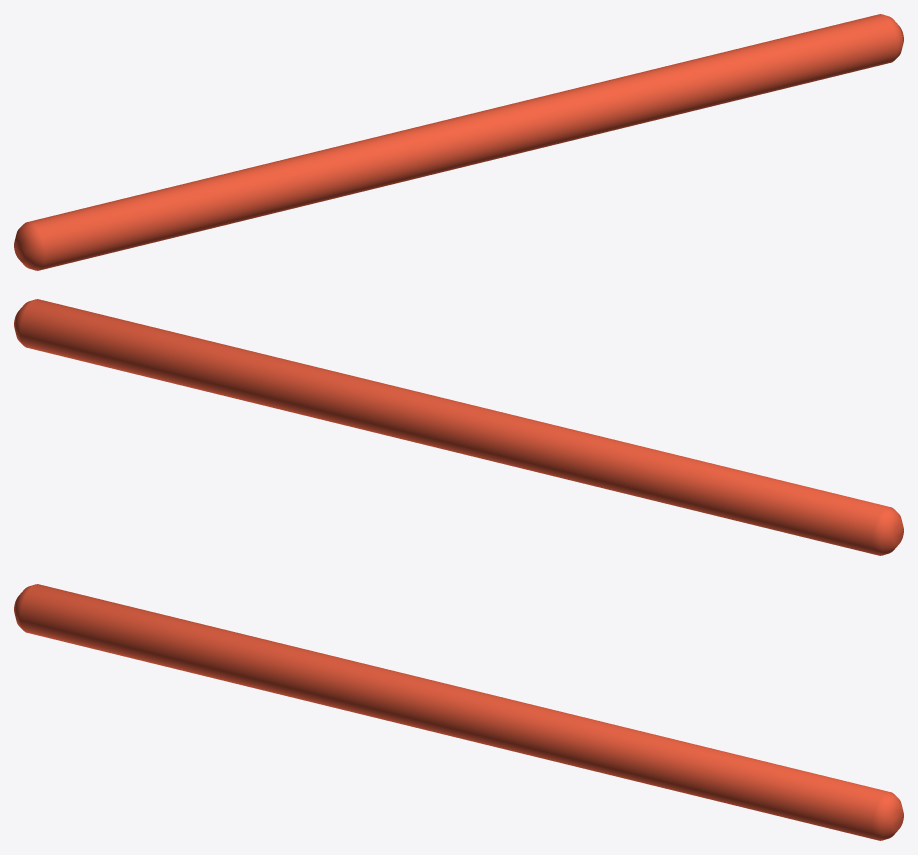
File: Laser.fbx
3 renders of one model, top to bottom at view 1: azimuth 30°, elevation 25°; view 2: azimuth 150°, elevation 25°; view 3: azimuth 330°, elevation 25°, orthographic.
Parts seen in each view (by area): view 1: Laser Beam; view 2: Laser Beam; view 3: Laser Beam.
Boxes of the visible parts, x1=… form: Laser Beam: x1=14, y1=14, x2=903, y2=270; Laser Beam: x1=14, y1=299, x2=903, y2=555; Laser Beam: x1=14, y1=584, x2=903, y2=840.
Bounding box in the file's own units: 0.9944 × 0.0492 × 0.0492.
